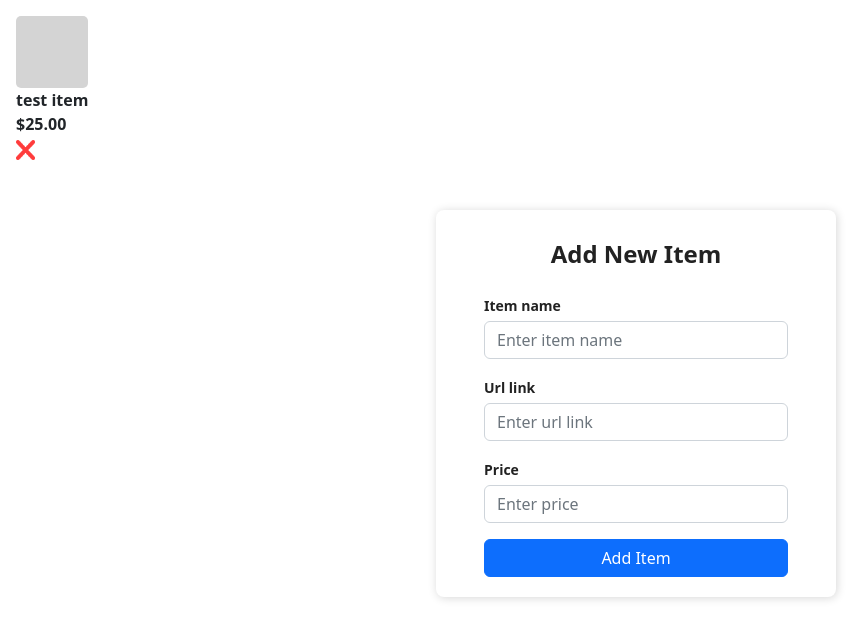
Test: <Items/> › deletes item unsuccessfully
The image size is (857, 618).
Click the 2nd picture with alt text "no" at coordinates (26, 150), box [16,140,35,160]
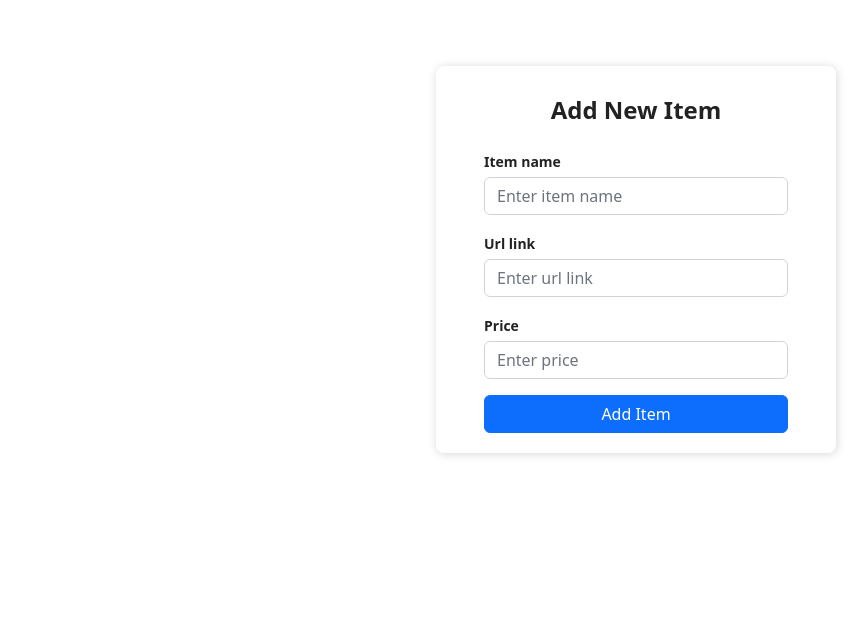
Check: the text "test item" is gone
